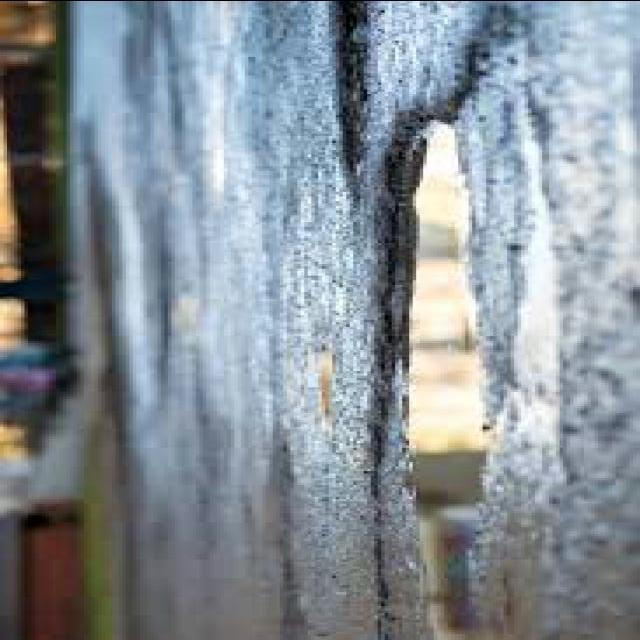pothole: (368, 7, 528, 628), (329, 0, 376, 174)
